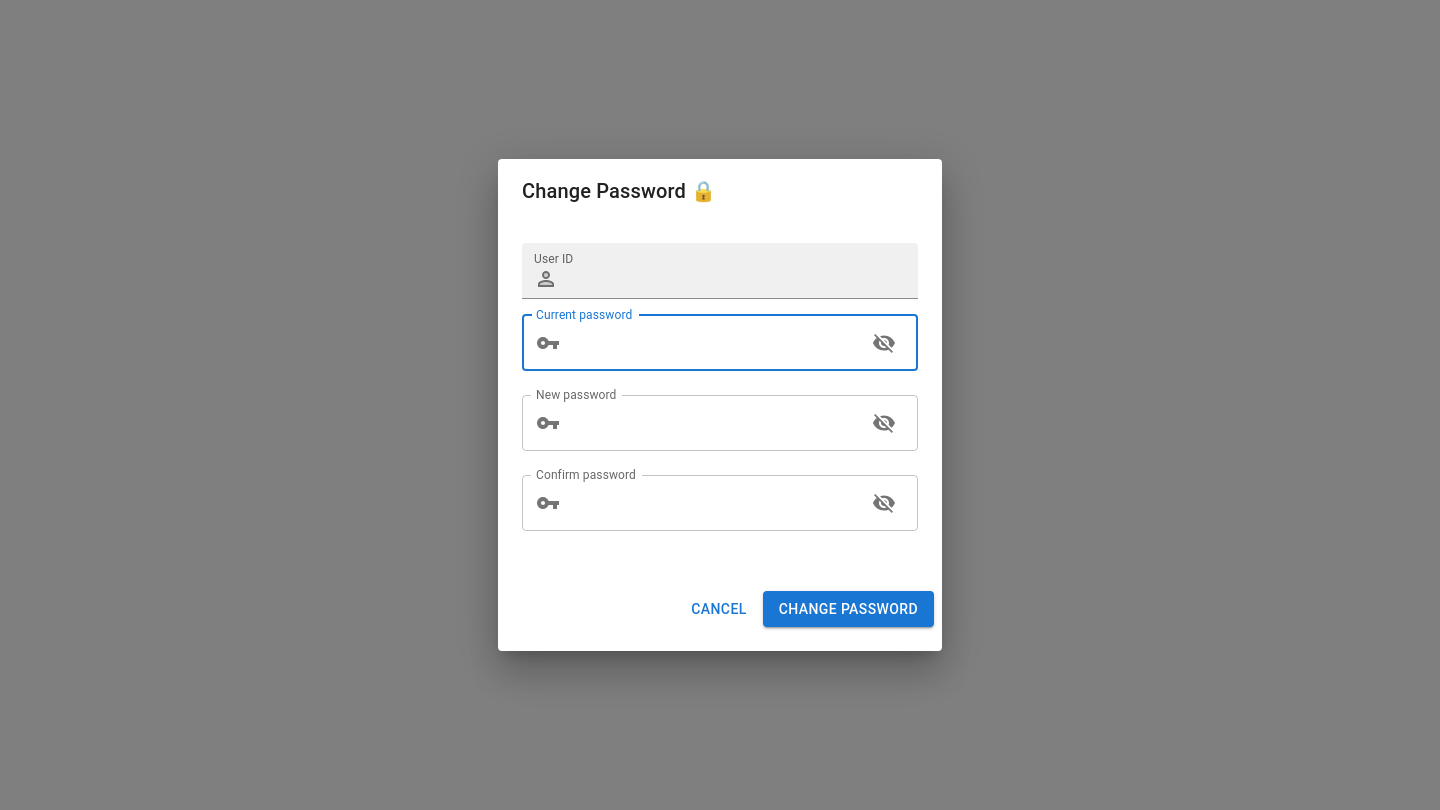
Test: PasswordChangeDialog › behavior › ng required
The image size is (1440, 810).
Click the button "Change Password" at (848, 609), box [763,591,934,627]
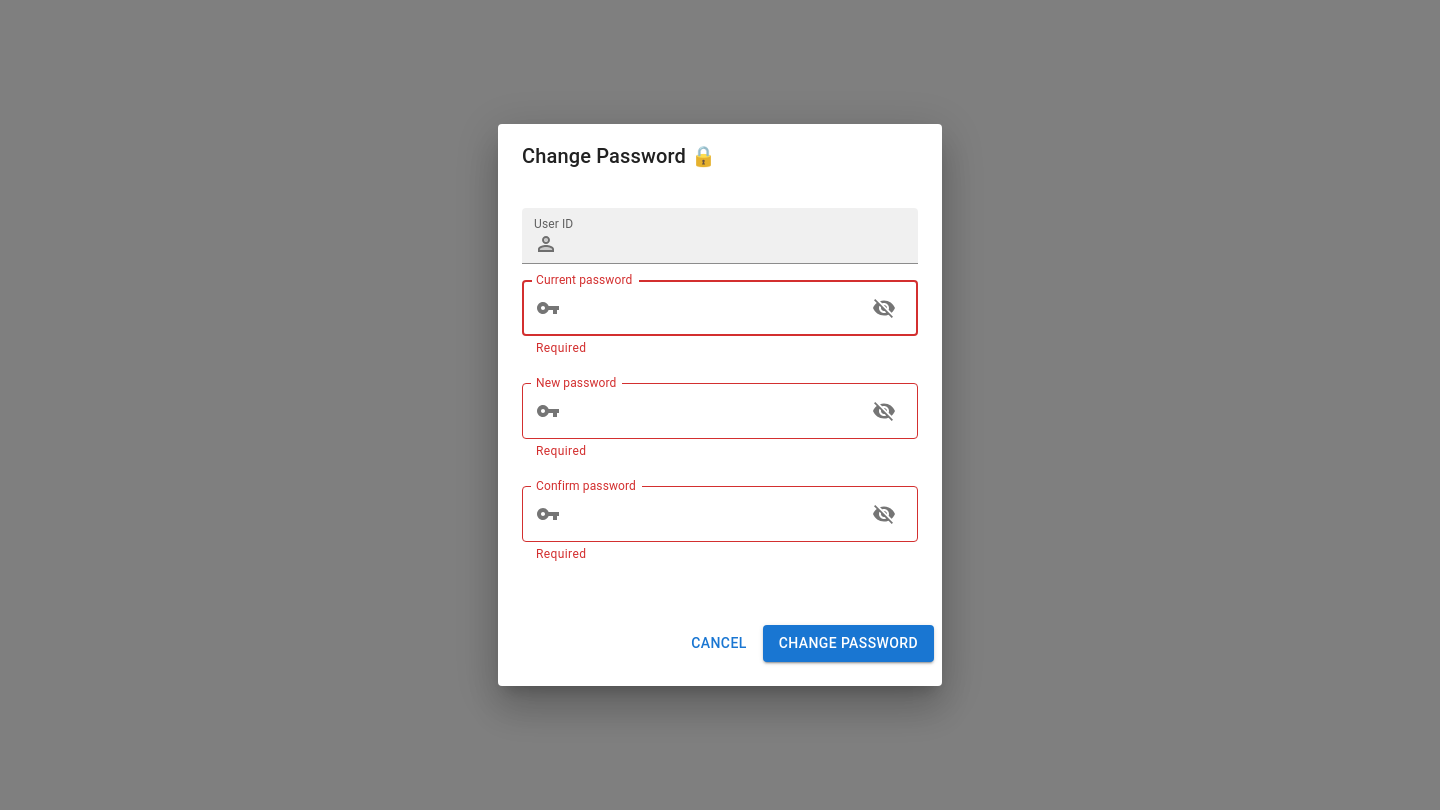
expect the text "Required" below "Confirm password" is shown: met, box [536,547,586,561]
